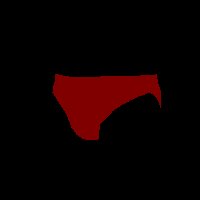mutande: (52, 73, 161, 140)
